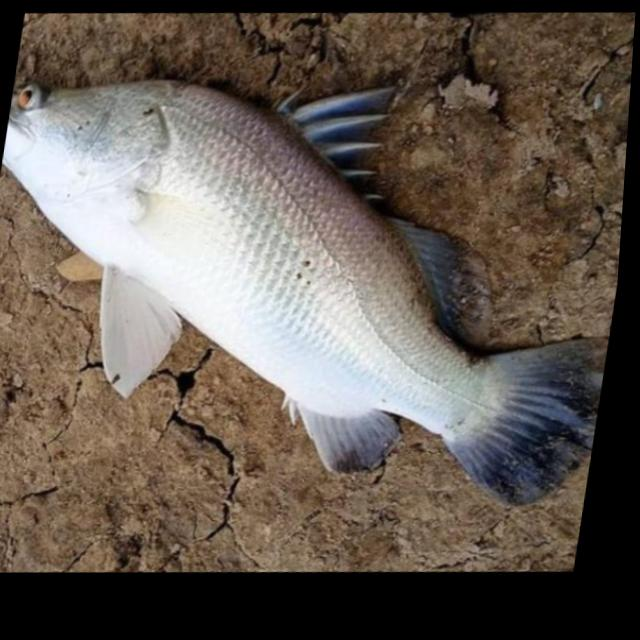Seabass: (0, 19, 635, 554)
